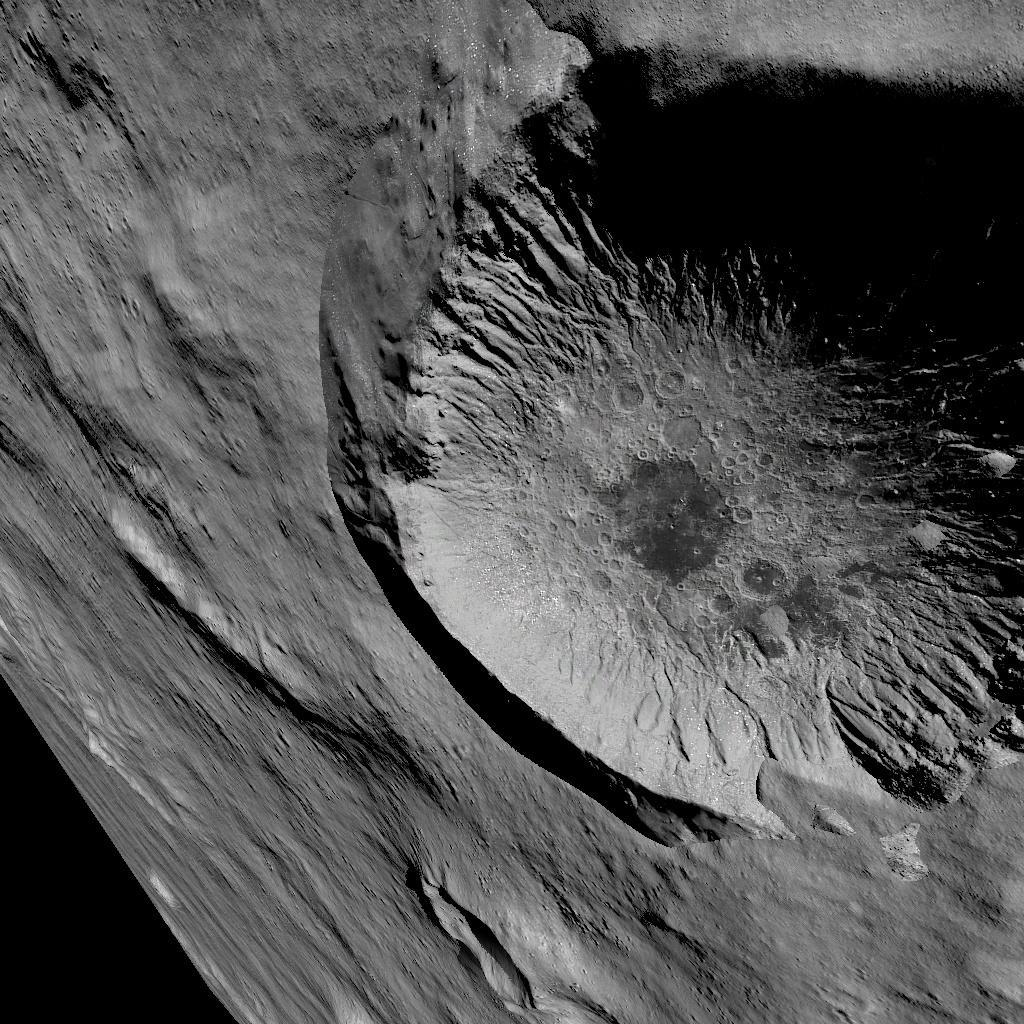Crater: (315, 32, 1024, 844), (399, 868, 551, 1024)
Plan surface: (1, 2, 295, 448), (599, 872, 1024, 1024)
